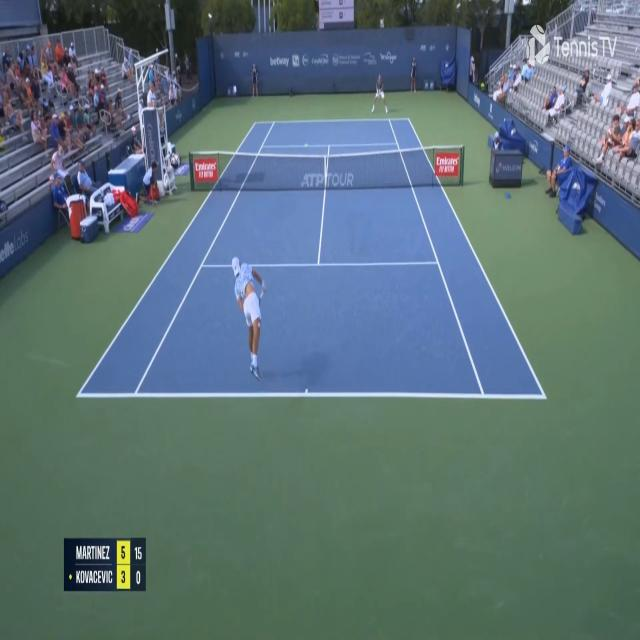tennis-player: (230, 252, 266, 381), (370, 74, 388, 114)
